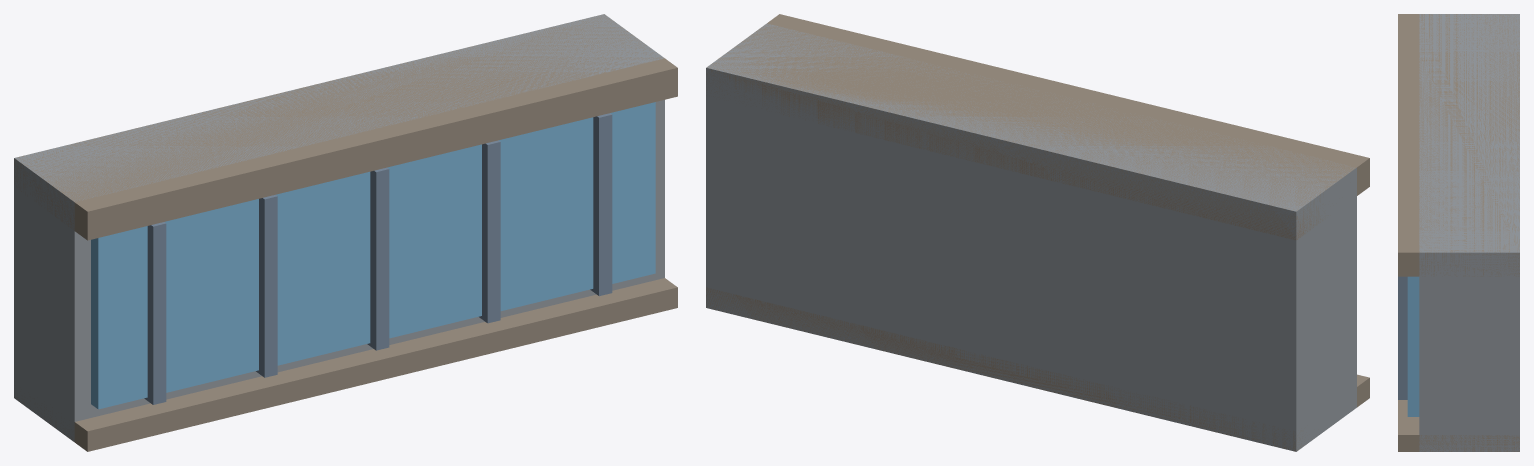
The model's file is cittaVetroPianoA.glb.
The picture shows the model from 3 angles, left to right: view 1: azimuth 30°, elevation 25°; view 2: azimuth 150°, elevation 25°; view 3: azimuth 270°, elevation 25°; orthographic projection. The views are drawn at different scales.
Visible parts, largest first — view 1: cittaVetroPianoA_glass, cittaVetroPianoA_concreteDark, cittaVetroPianoA_cittaVetro, cittaVetroPianoA_steel; view 2: cittaVetroPianoA_cittaVetro, cittaVetroPianoA_concreteDark; view 3: cittaVetroPianoA_cittaVetro, cittaVetroPianoA_concreteDark, cittaVetroPianoA_glass, cittaVetroPianoA_steel.
Part boxes in pixels (left/top/right/bottom): cittaVetroPianoA_glass: left=91, top=102, right=655, bottom=409; cittaVetroPianoA_concreteDark: left=14, top=14, right=677, bottom=451; cittaVetroPianoA_cittaVetro: left=14, top=14, right=664, bottom=441; cittaVetroPianoA_steel: left=144, top=113, right=612, bottom=404; cittaVetroPianoA_cittaVetro: left=706, top=23, right=1356, bottom=451; cittaVetroPianoA_concreteDark: left=706, top=14, right=1369, bottom=451; cittaVetroPianoA_cittaVetro: left=1419, top=14, right=1519, bottom=451; cittaVetroPianoA_concreteDark: left=1398, top=14, right=1519, bottom=451; cittaVetroPianoA_glass: left=1407, top=276, right=1419, bottom=416; cittaVetroPianoA_steel: left=1398, top=276, right=1407, bottom=399.
Bounding box in the file's own units: 9 × 3.5 × 1.94.
